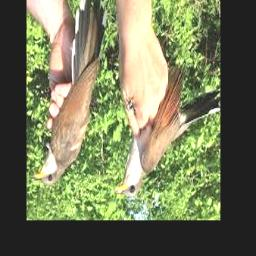Cuckoo: (115, 62, 220, 197), (34, 0, 105, 186)
